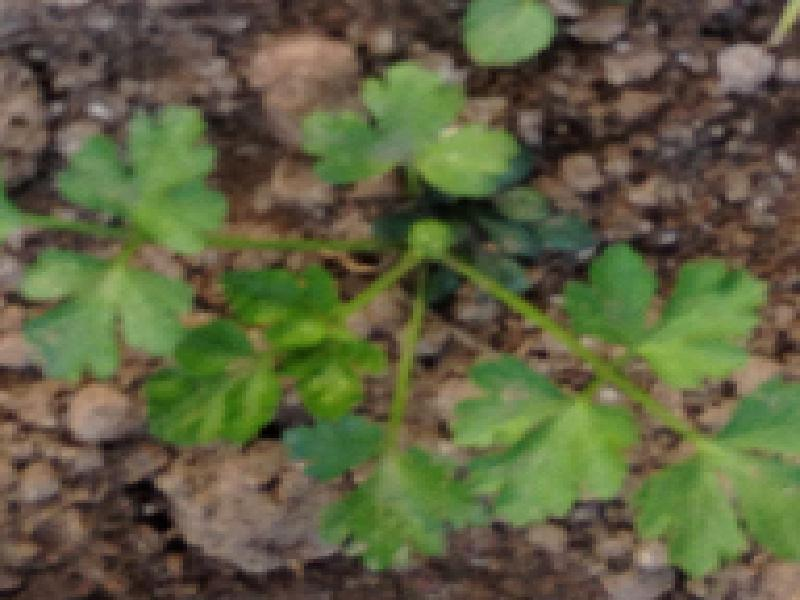radish: (85, 55, 766, 582)
